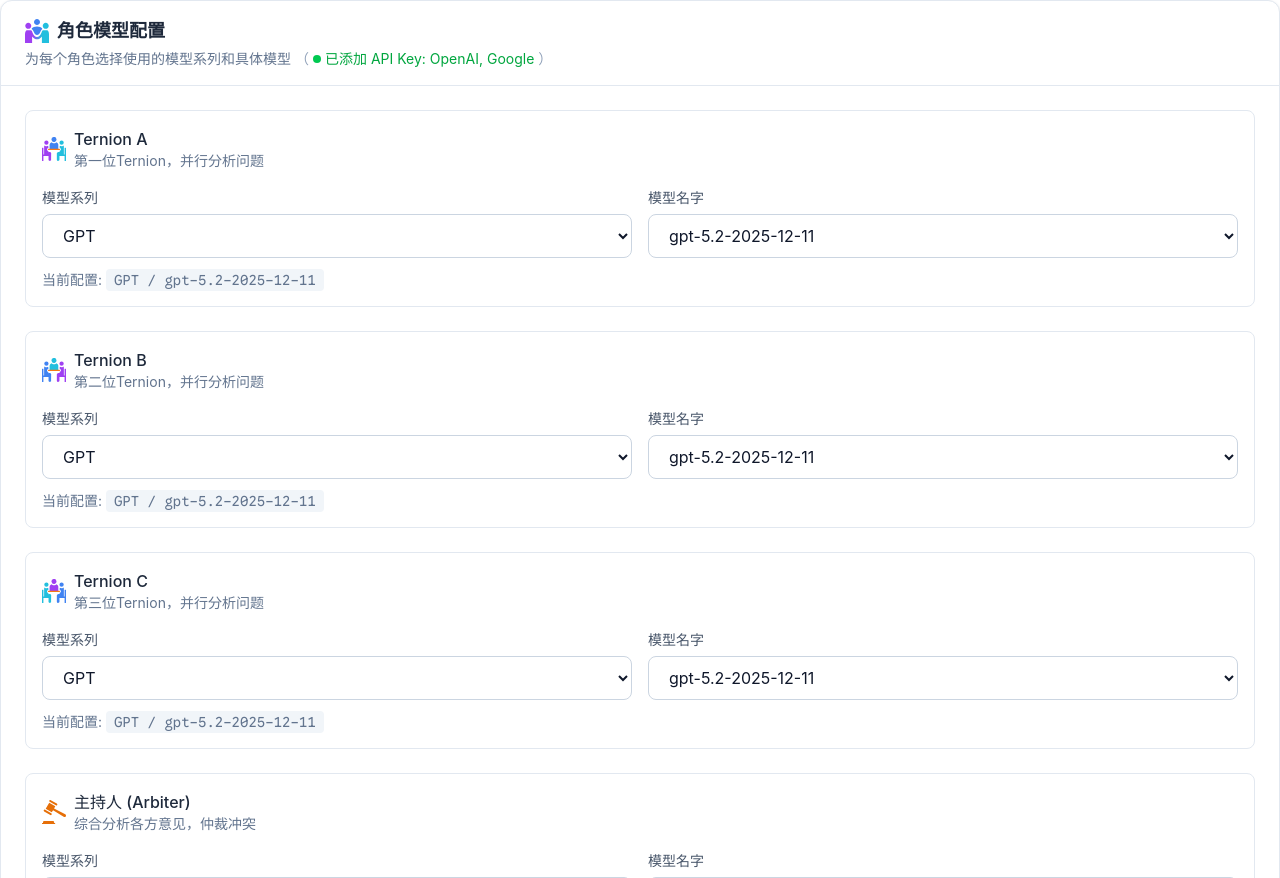
RoleModelConfig › resets model selection when provider is changed
The width and height of the screenshot is (1280, 878).
Check: the 2nd dropdown shows "gpt-5.2-2025-12-11", box [648,214,1238,258]
Select "Gemini" in the 1st dropdown: (337, 236) [42,214,632,258]
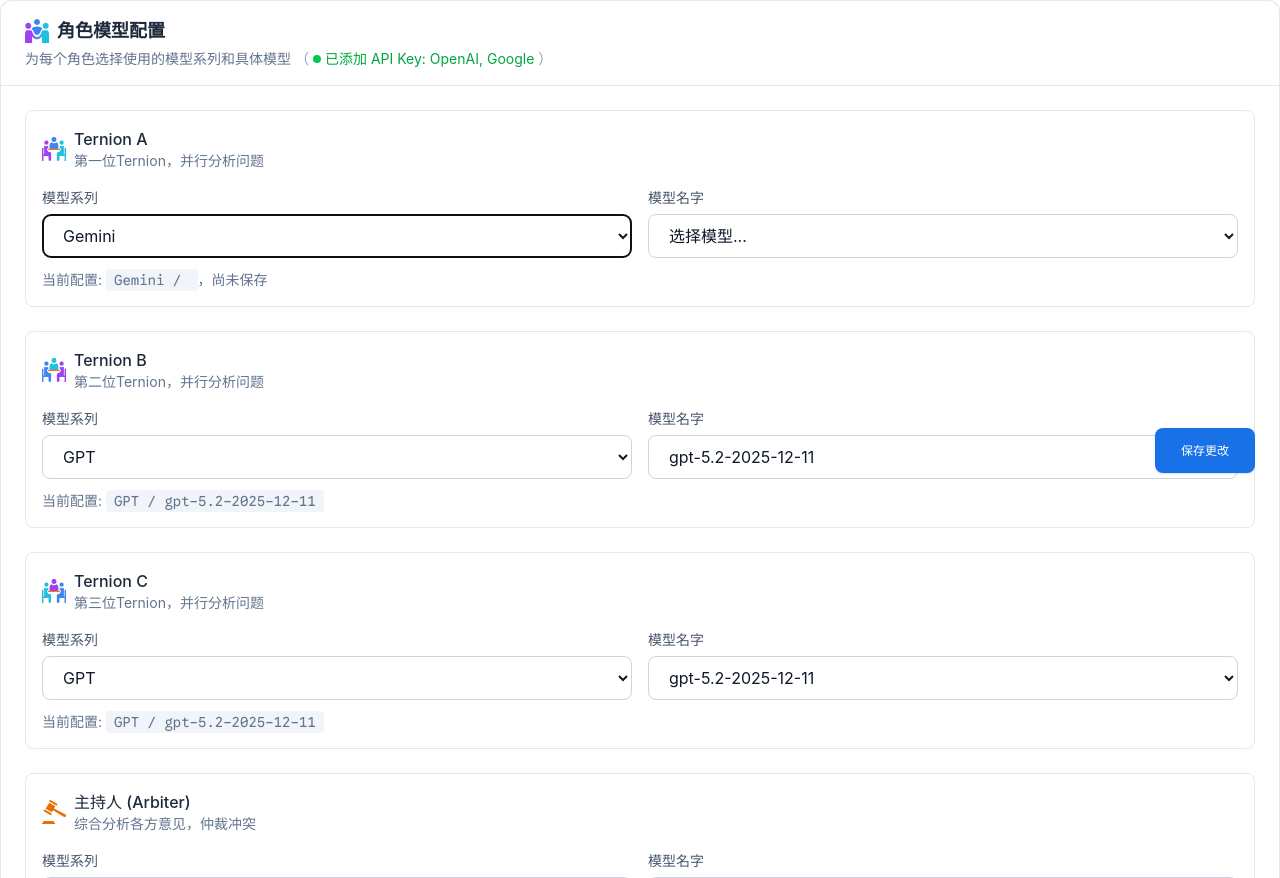
Check: the 2nd dropdown shows "选择模型...", box [648,214,1238,258]
